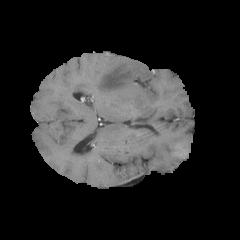glioma: (95, 59, 157, 104)
